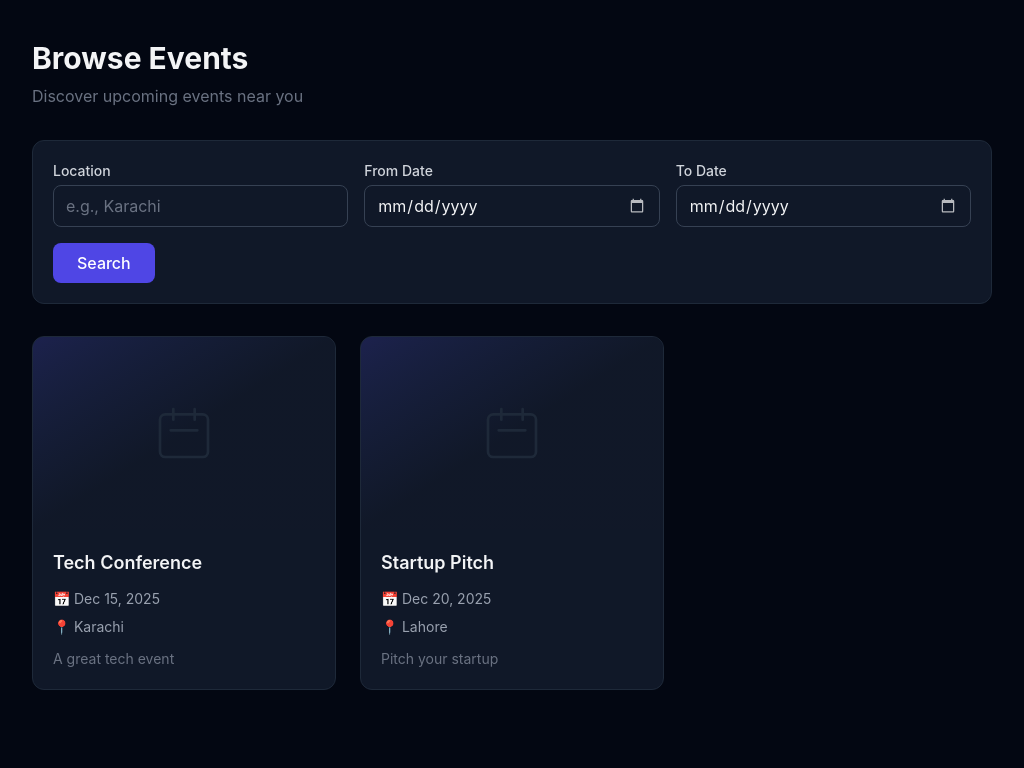
Events Page › clears filters when clear button is clicked
Type "karachi" into the field labelled "Location" at (201, 206), box [53,185,348,227]
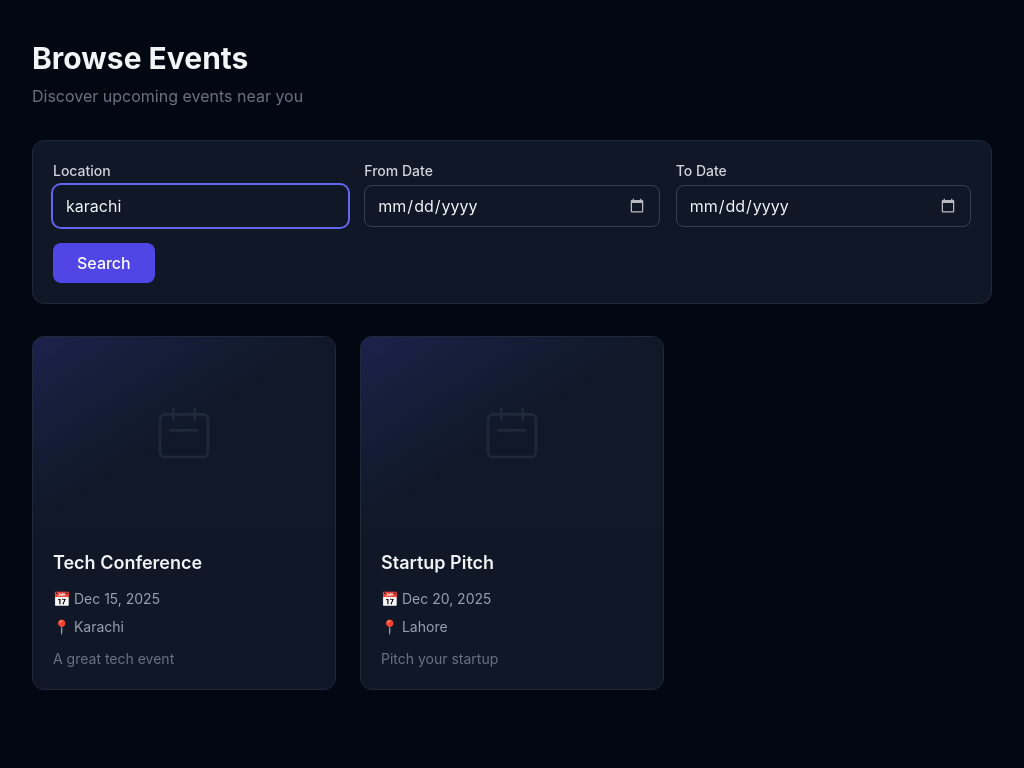
Click the button "Search" at (104, 263), box [53,243,155,283]
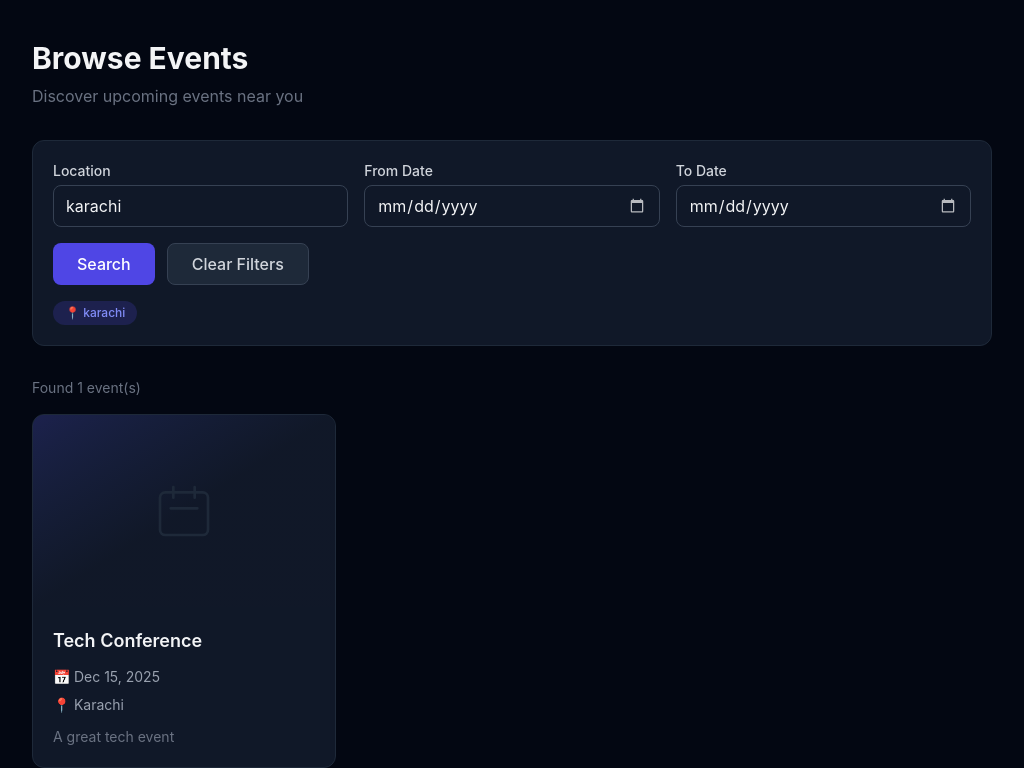
Now the button "Clear Filters" is shown
Click the button "Clear Filters" at (238, 264), box [167,243,309,285]
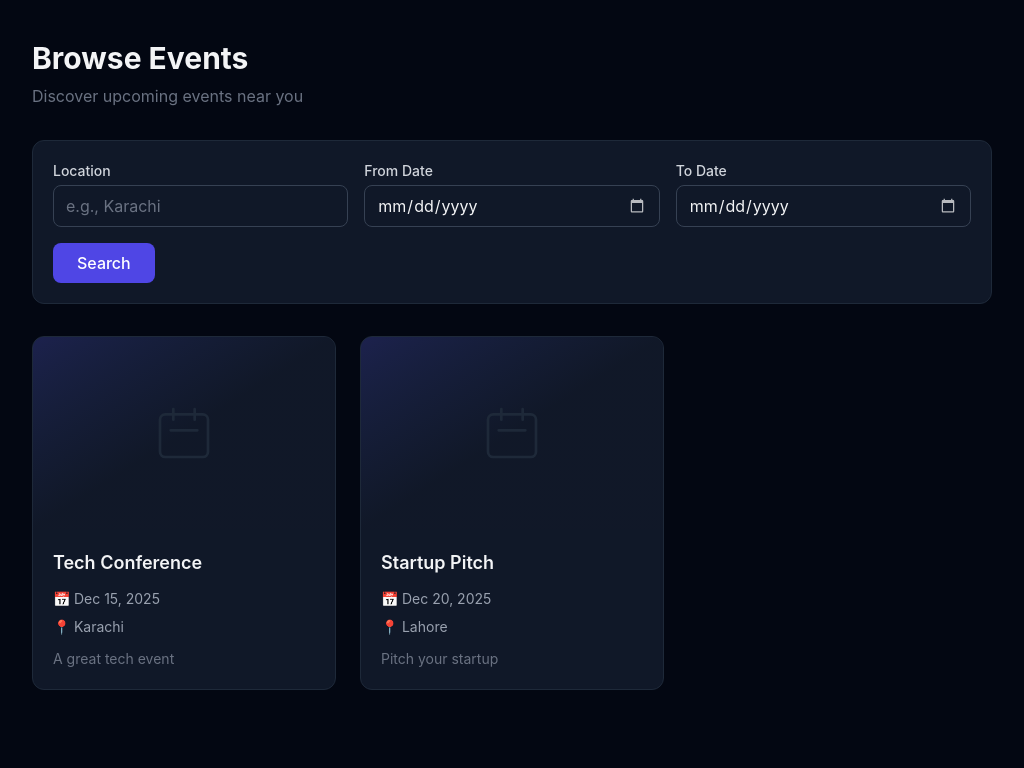
Expected: the heading "tech conference" is shown, [53,552,202,573]
Now the heading "startup pitch" is shown, box [381,552,494,573]
